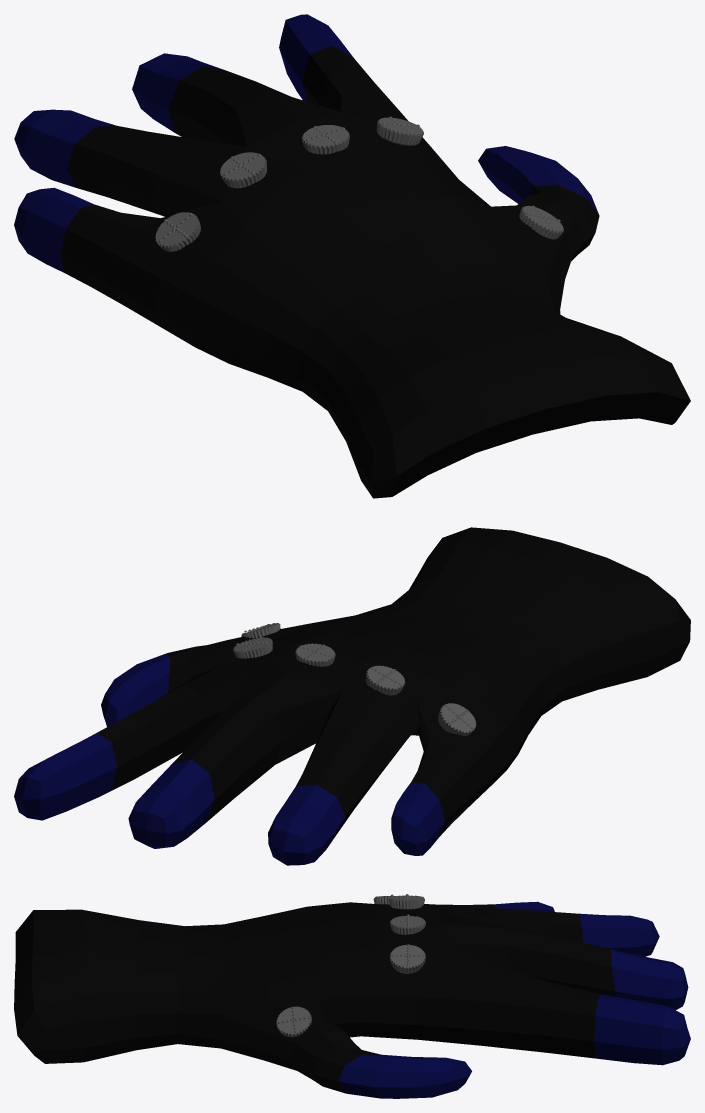
Rendered from left_glove.obj.
3 renders of one model, top to bottom at view 1: azimuth 30°, elevation 25°; view 2: azimuth 150°, elevation 25°; view 3: azimuth 270°, elevation 25°, orthographic. The views are drawn at different scales.
Parts seen in each view (by area): view 1: Left_Glove.001; view 2: Left_Glove.001; view 3: Left_Glove.001.
Part boxes in pixels (x1=…): Left_Glove.001: x1=14, y1=14, x2=690, y2=498; Left_Glove.001: x1=14, y1=527, x2=690, y2=865; Left_Glove.001: x1=14, y1=894, x2=690, y2=1098.
Size of the model in its own units: 3.58 by 1.09 by 6.04.
